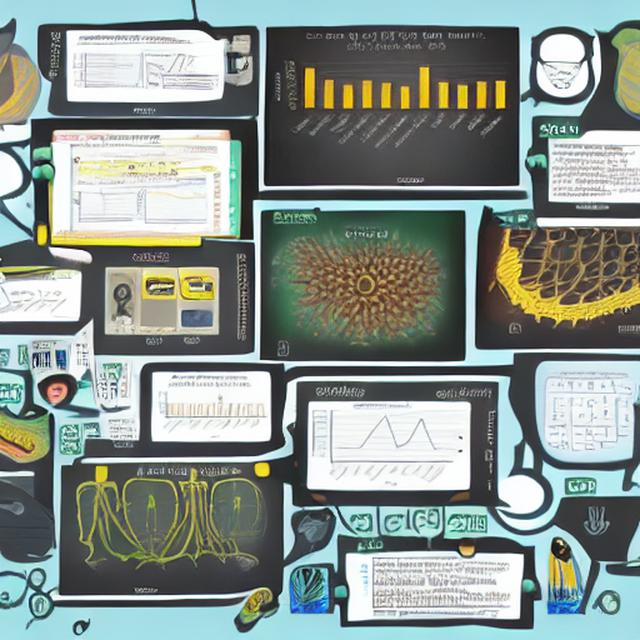Graph: (268, 29, 519, 186), (311, 403, 454, 487), (152, 373, 266, 440), (136, 185, 207, 227)
